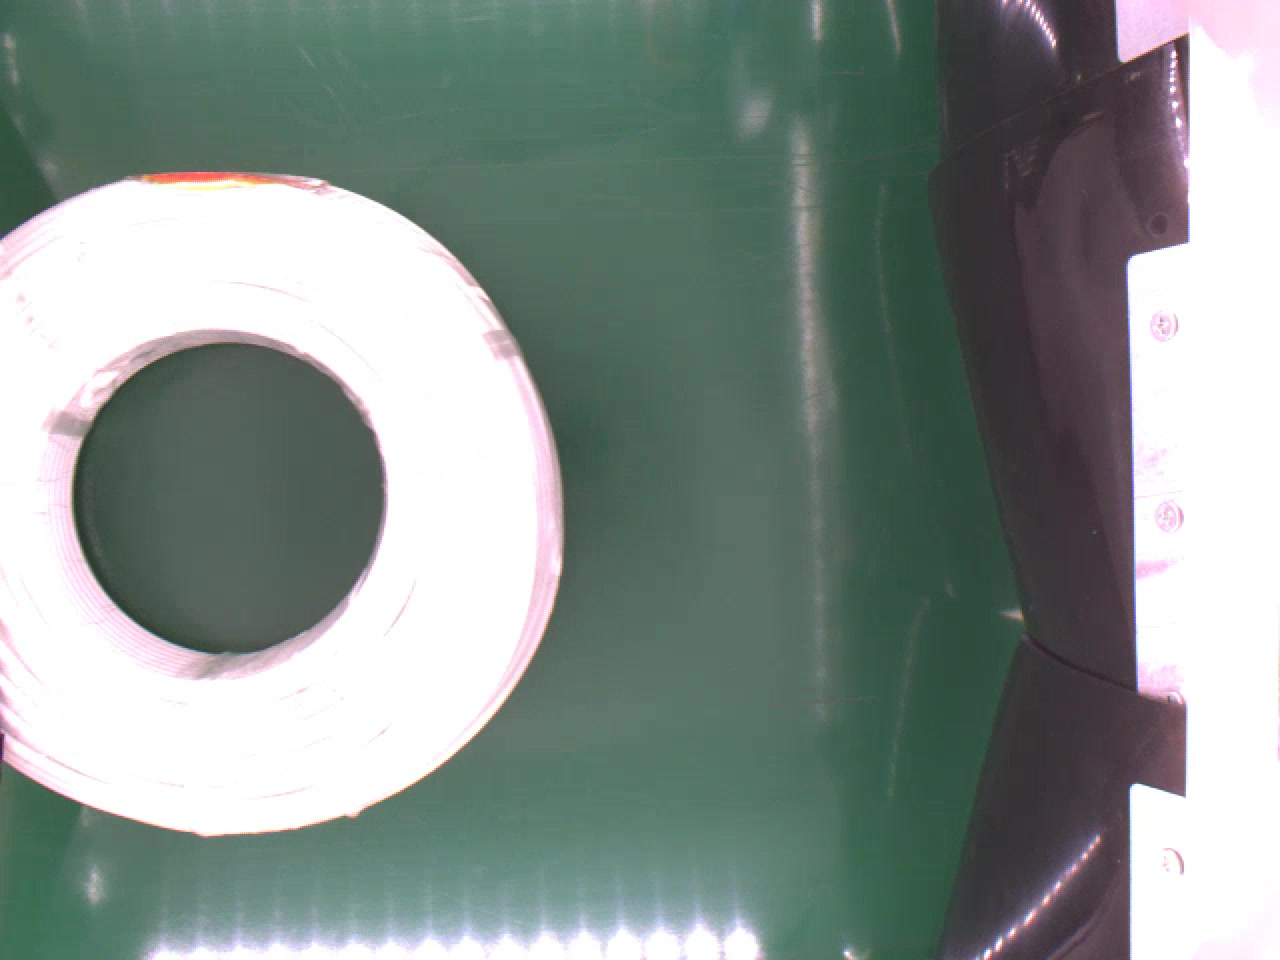white: (0, 168, 570, 839)
